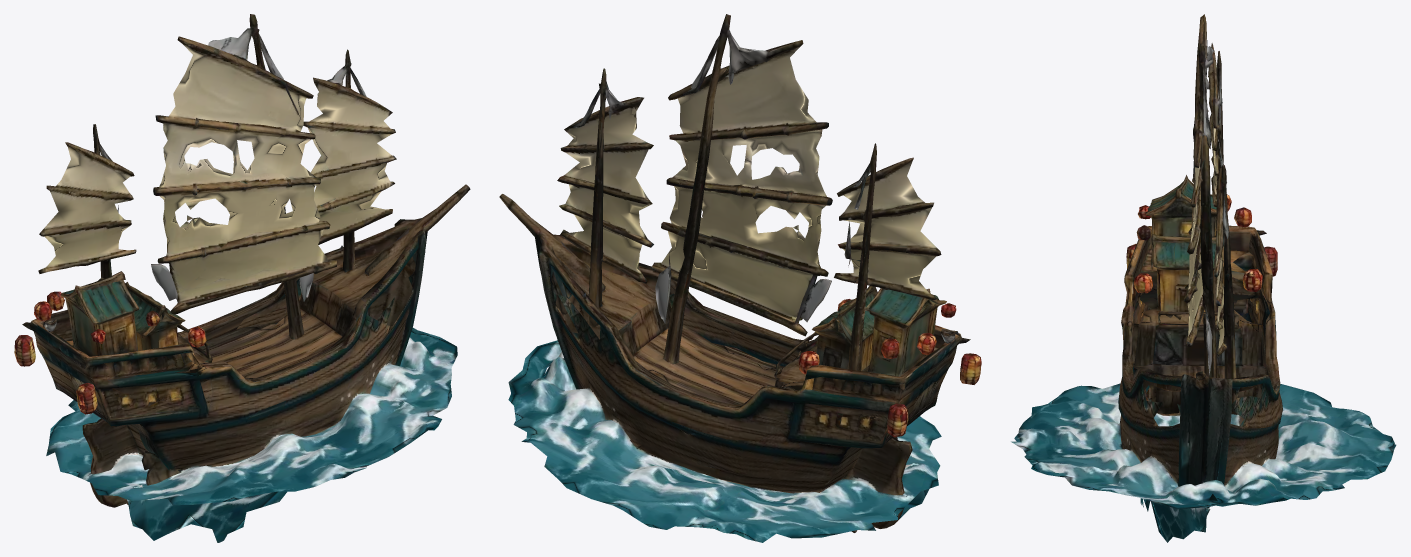
Rendered from junk.glb.
3 views of the same model, side by side, from view 1: azimuth 30°, elevation 25°; view 2: azimuth 150°, elevation 25°; view 3: azimuth 270°, elevation 25° (orthographic). The views are drawn at different scales.
Visible parts, largest first — view 1: geometry_0; view 2: geometry_0; view 3: geometry_0.
Boxes of the visible parts, x1,y1,x2,y2 form: geometry_0: (14,14,470,542); geometry_0: (499,14,981,542); geometry_0: (1011,14,1396,542).
Size of the model in its own units: 0.8072 by 0.877 by 0.625.
Materials: 1 (1 with a texture image).
